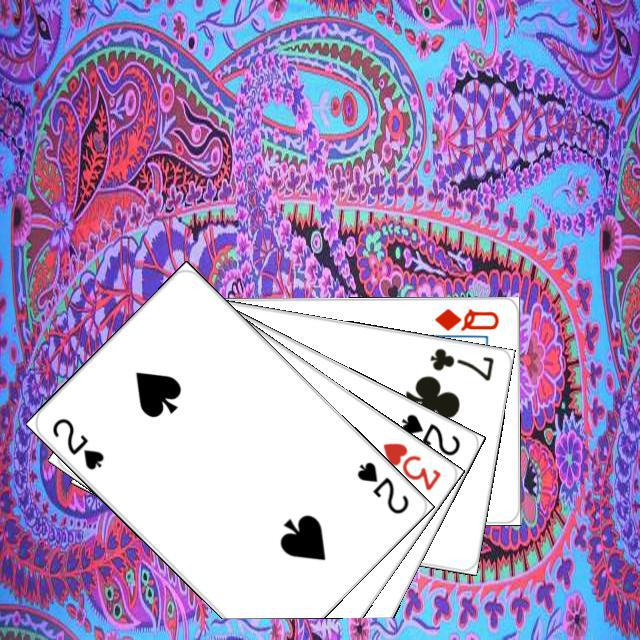2s: (352, 456, 411, 516), (47, 413, 106, 472), (396, 408, 462, 458)
3h: (377, 437, 443, 493)
7c: (425, 343, 496, 383)
Qd: (430, 304, 500, 333)
